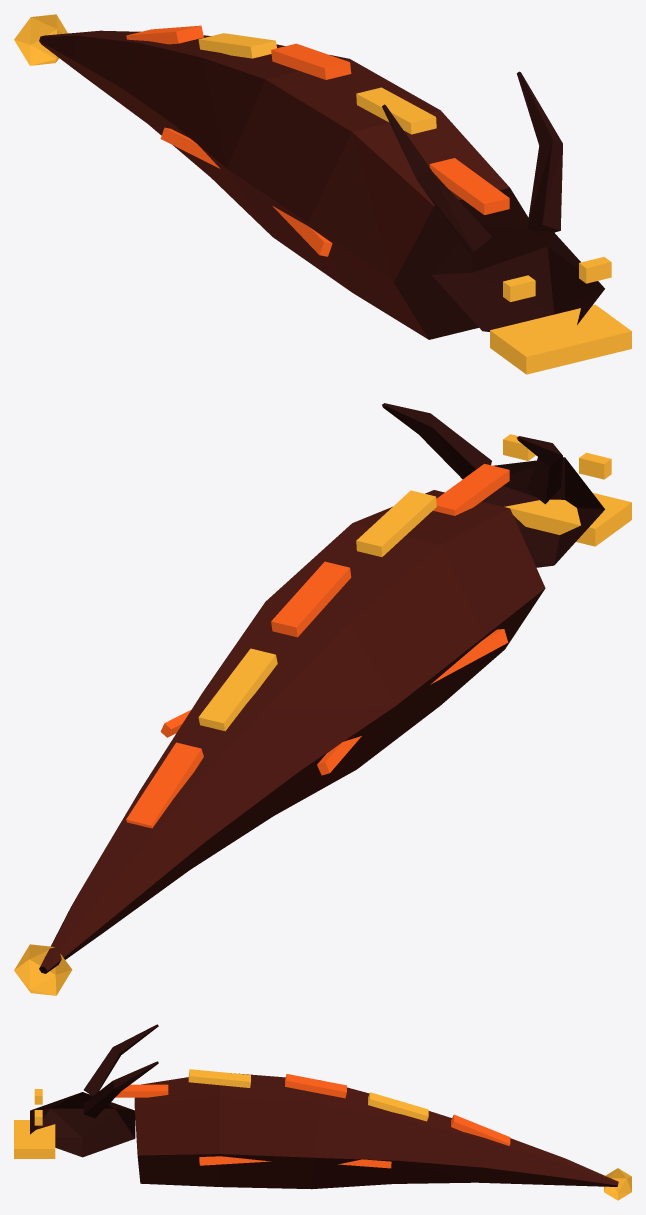
Rendered from dk_mob_imp.glb.
3 views of the same model, one above another, from view 1: azimuth 30°, elevation 25°; view 2: azimuth 150°, elevation 25°; view 3: azimuth 270°, elevation 25° (orthographic). The views are drawn at different scales.
Visible parts, largest first — view 1: dk_mob_imp; view 2: dk_mob_imp; view 3: dk_mob_imp.
Part boxes in pixels (x1=…): dk_mob_imp: x1=14, y1=14, x2=631, y2=374; dk_mob_imp: x1=14, y1=403, x2=631, y2=995; dk_mob_imp: x1=14, y1=1024, x2=631, y2=1200.
Size of the model in its own units: 0.895 by 1.24 by 4.5.
Materials: 2 (2 with a texture image).
